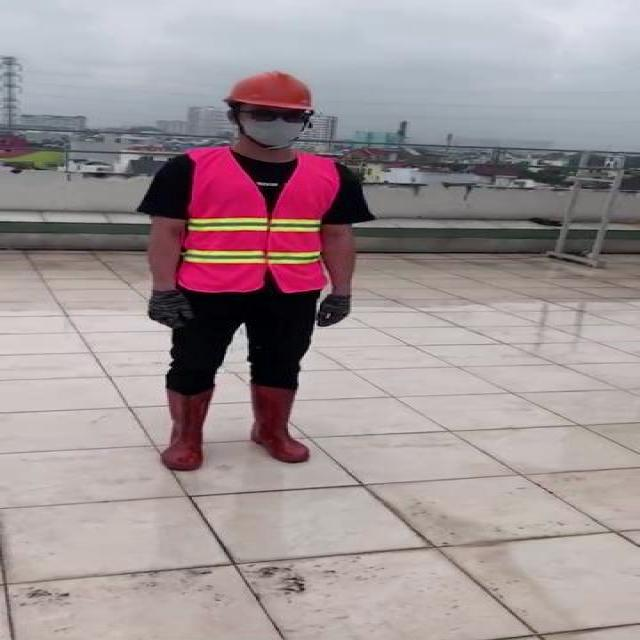boots: (249, 390, 315, 465), (156, 388, 214, 472)
face_mask: (242, 105, 314, 145)
glasses: (240, 105, 320, 127)
hand_glove: (142, 290, 198, 327), (309, 295, 354, 327)
head_helmet: (224, 70, 315, 114)
person: (132, 66, 364, 480)
vest: (178, 147, 341, 293)
